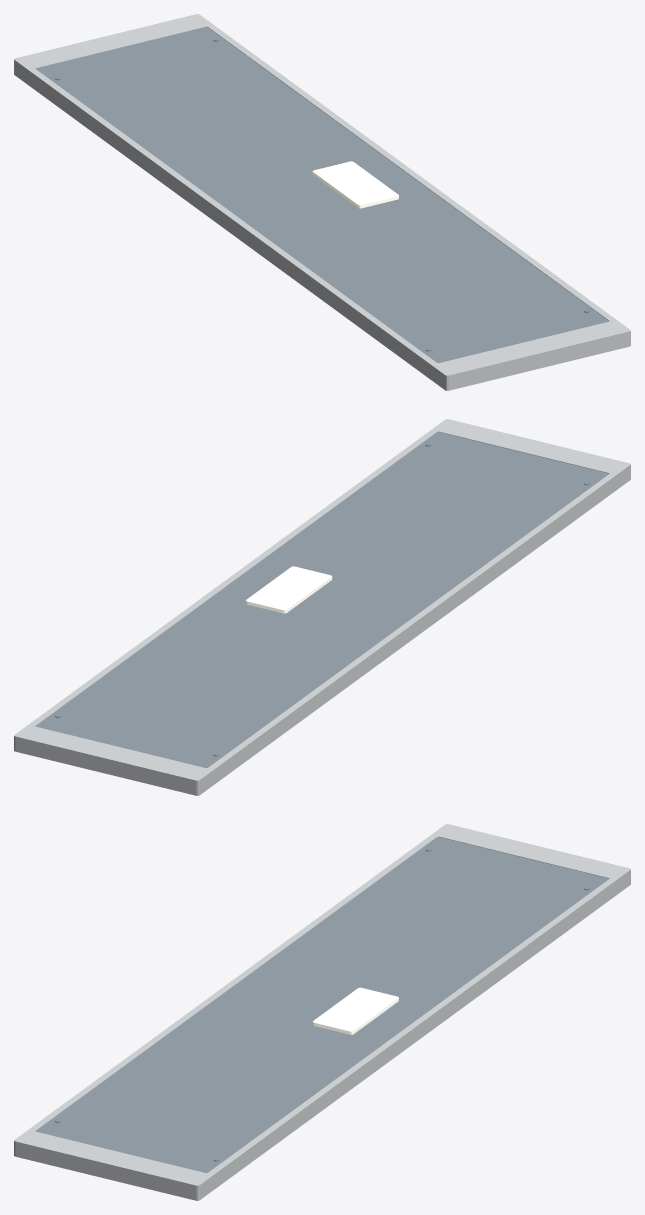
The model's file is source.glb.
3 views of the same model, one above another, from view 1: azimuth 30°, elevation 25°; view 2: azimuth 150°, elevation 25°; view 3: azimuth 330°, elevation 25° (orthographic).
Visible parts, largest first — view 1: 机加工金属, 粉末涂层铝壳, Emitters; view 2: 机加工金属, 粉末涂层铝壳, Emitters; view 3: 机加工金属, 粉末涂层铝壳, Emitters.
Boxes of the visible parts, x1=… form: 机加工金属: x1=36, y1=27, x2=609, y2=362; 粉末涂层铝壳: x1=14, y1=14, x2=630, y2=390; Emitters: x1=312, y1=161, x2=398, y2=208; 机加工金属: x1=35, y1=432, x2=608, y2=767; 粉末涂层铝壳: x1=14, y1=419, x2=630, y2=795; Emitters: x1=246, y1=566, x2=332, y2=613; 机加工金属: x1=35, y1=837, x2=608, y2=1172; 粉末涂层铝壳: x1=14, y1=824, x2=630, y2=1200; Emitters: x1=312, y1=987, x2=398, y2=1034.
Bounding box in the file's own units: 0.295 × 0.0343 × 1.2.
